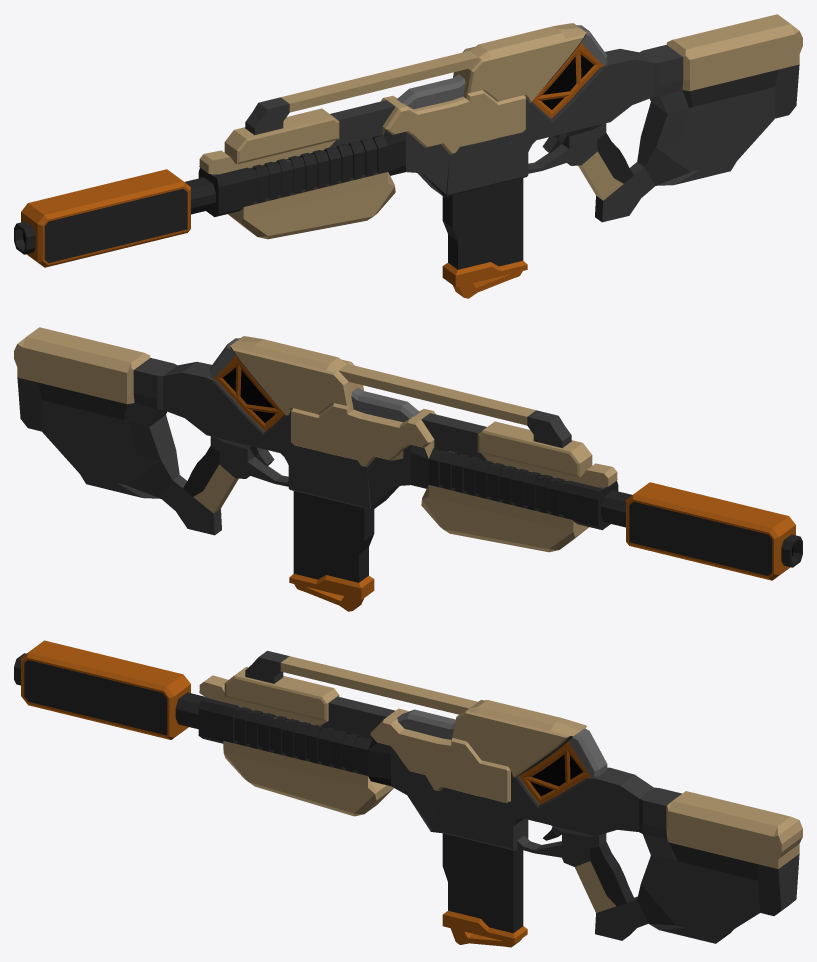
Rendered from rifle.fbx.
3 renders of one model, top to bottom at view 1: azimuth 30°, elevation 25°; view 2: azimuth 150°, elevation 25°; view 3: azimuth 330°, elevation 25°, orthographic.
Parts seen in each view (by area): view 1: Cube; view 2: Cube; view 3: Cube.
Part boxes in pixels (x1,y1,x2,y2): Cube: [14, 14, 802, 298]; Cube: [14, 327, 802, 611]; Cube: [14, 640, 802, 947].
Size of the model in its own units: 2415 by 728 by 115.
